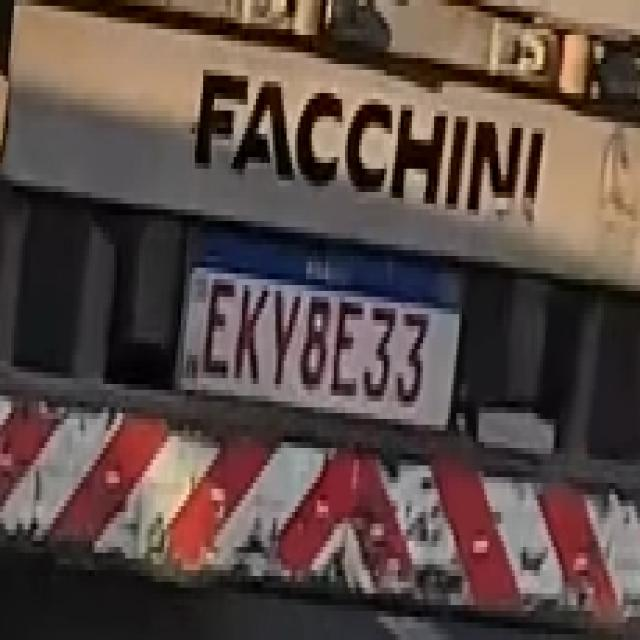Placa_mercosul_carro: (177, 222, 464, 430)
